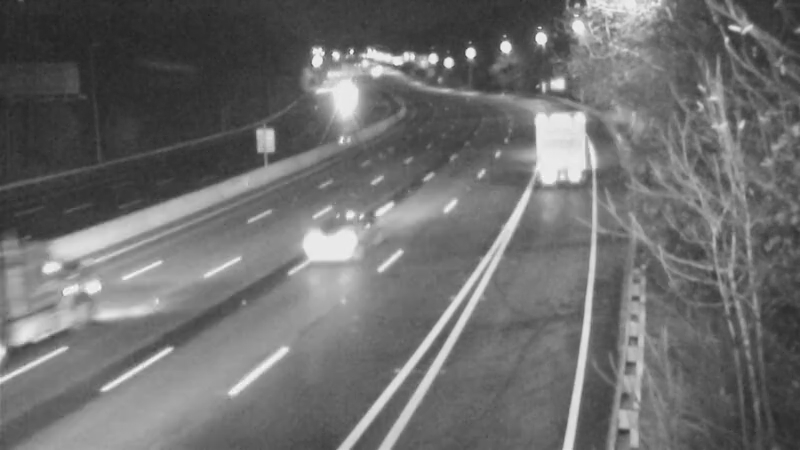vehicle: (1, 248, 98, 358), (303, 196, 383, 276), (526, 111, 576, 161), (318, 78, 368, 128)
